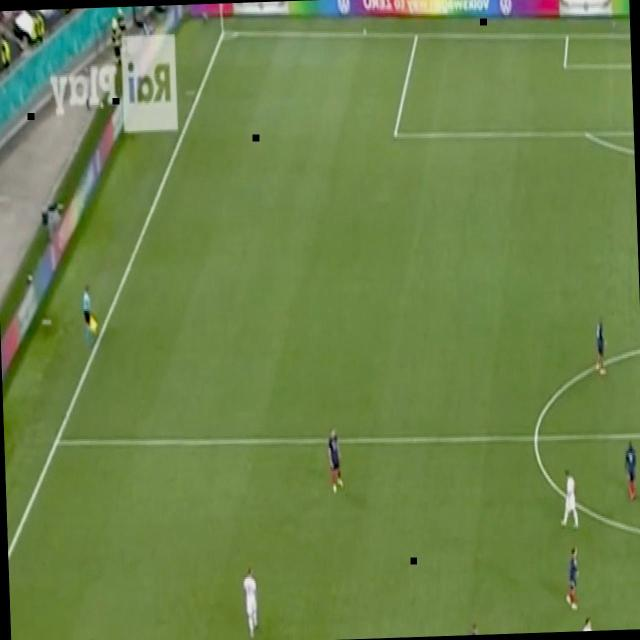player-white: (240, 560, 262, 640), (590, 309, 614, 379), (324, 422, 346, 498), (562, 543, 584, 613), (557, 465, 580, 530), (79, 280, 99, 348), (621, 432, 639, 498), (464, 615, 483, 635), (579, 613, 600, 631)
